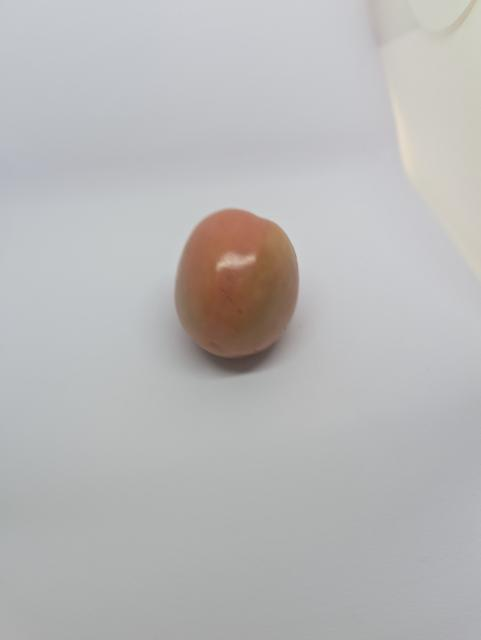turning: (170, 206, 304, 363)
